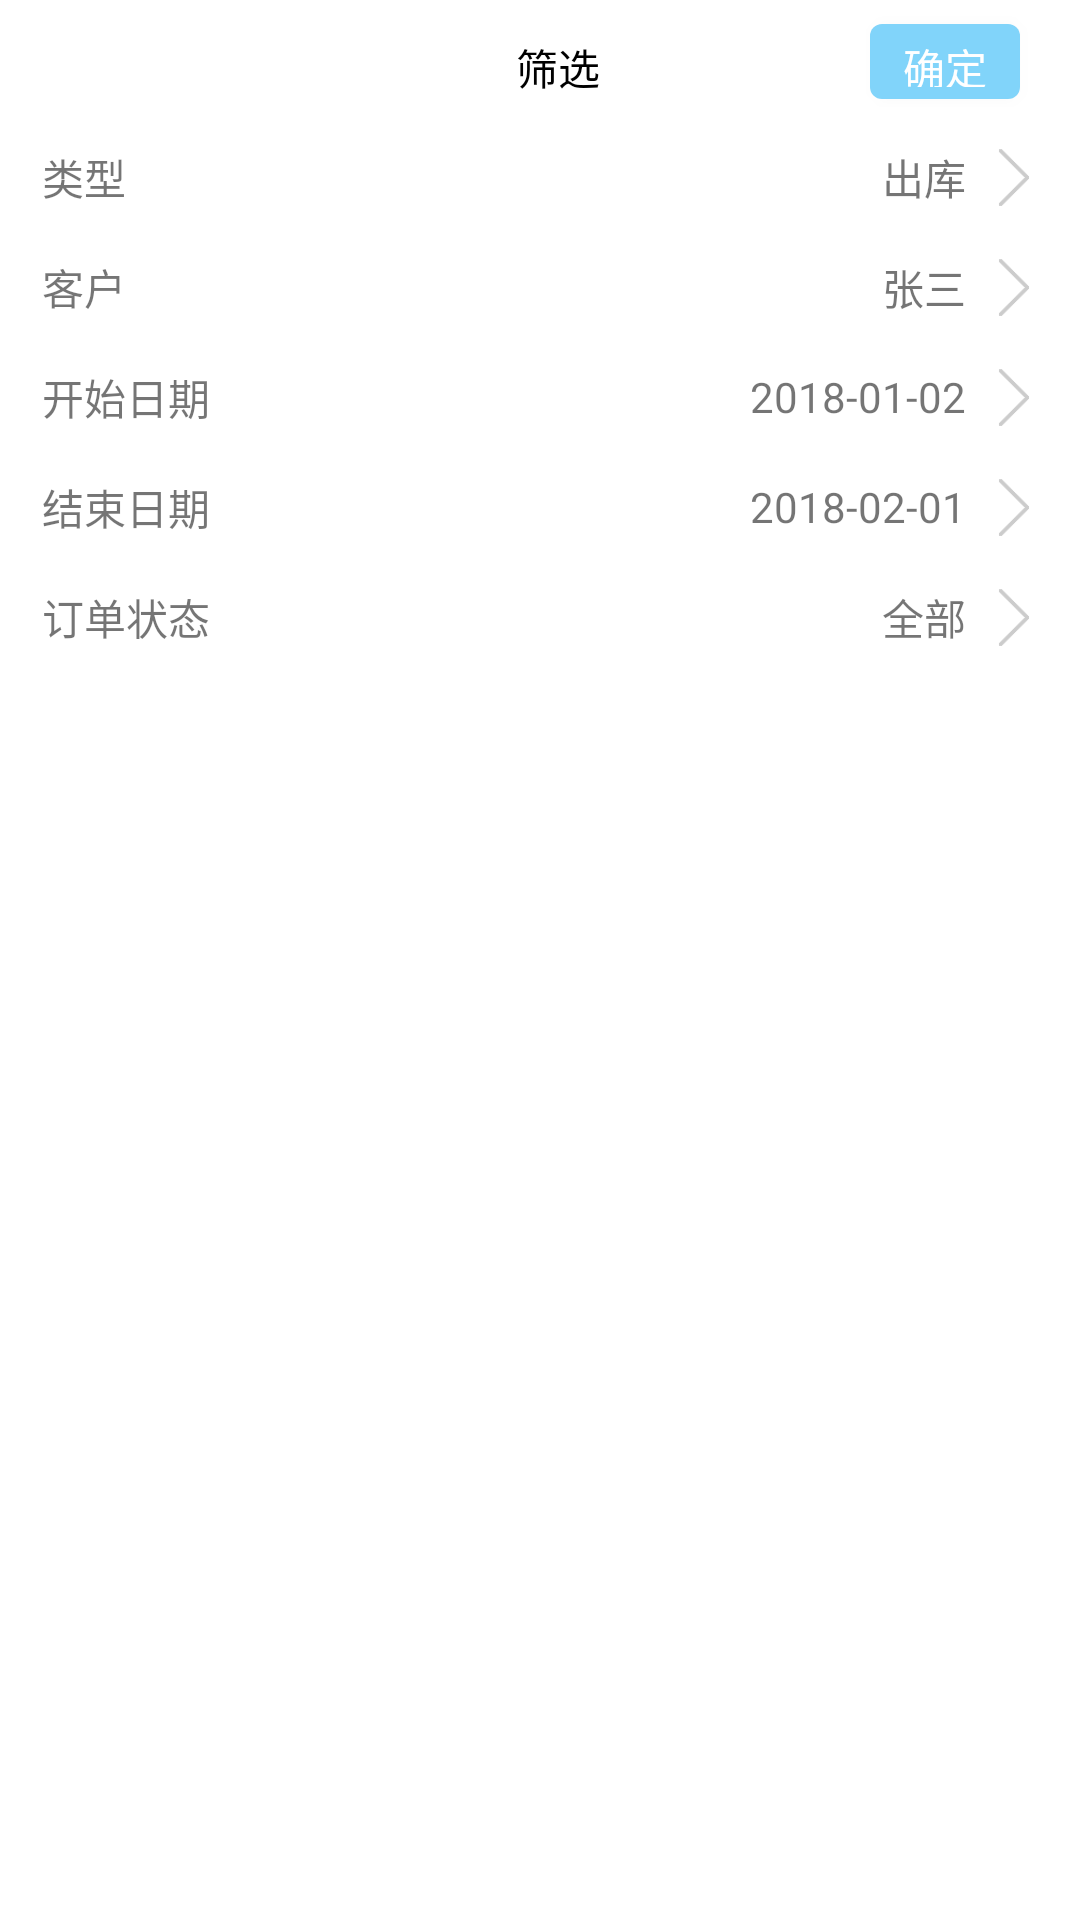

Where to tap for icons on this 1080×1920 app screen, as (x,y):
arrow right: (1014,177), (1014,287), (1014,397), (1014,507), (1014,617)
